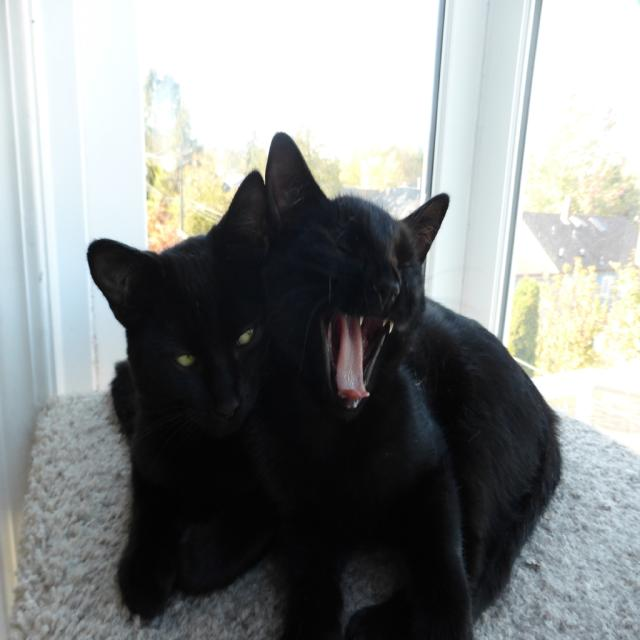Cat: (278, 126, 566, 638), (84, 148, 288, 631)
